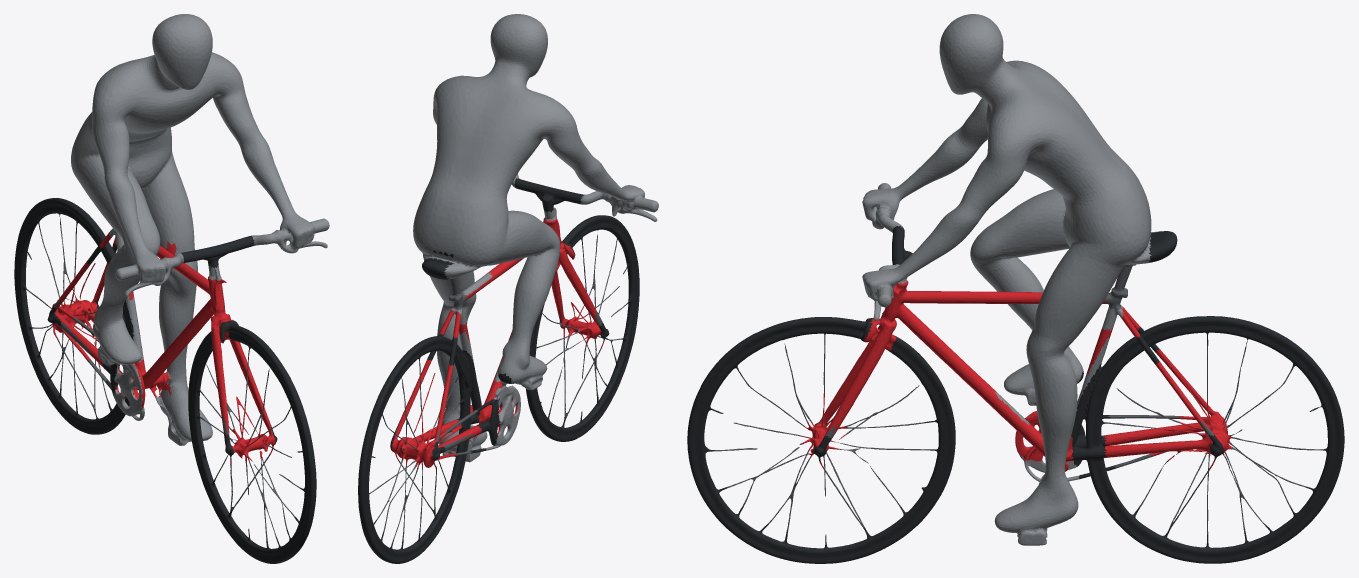
The model's file is Meshy_Red_Rider_colored.glb.
The picture shows the model from 3 angles, left to right: view 1: azimuth 30°, elevation 25°; view 2: azimuth 150°, elevation 25°; view 3: azimuth 270°, elevation 25°; orthographic projection. The views are drawn at different scales.
Visible parts, largest first — view 1: mesh_node; view 2: mesh_node; view 3: mesh_node.
Part boxes in pixels (x1,y1,x2,y2): mesh_node: [14, 14, 329, 563]; mesh_node: [358, 14, 658, 563]; mesh_node: [687, 14, 1344, 563].
Size of the model in its own units: 0.7885 by 1.74 by 1.9.
